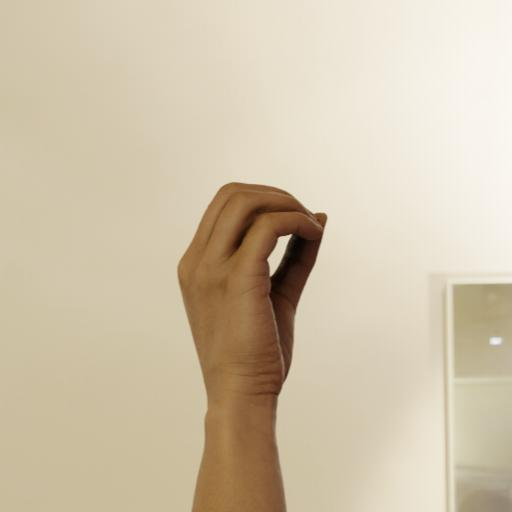O: (154, 160, 381, 411)
